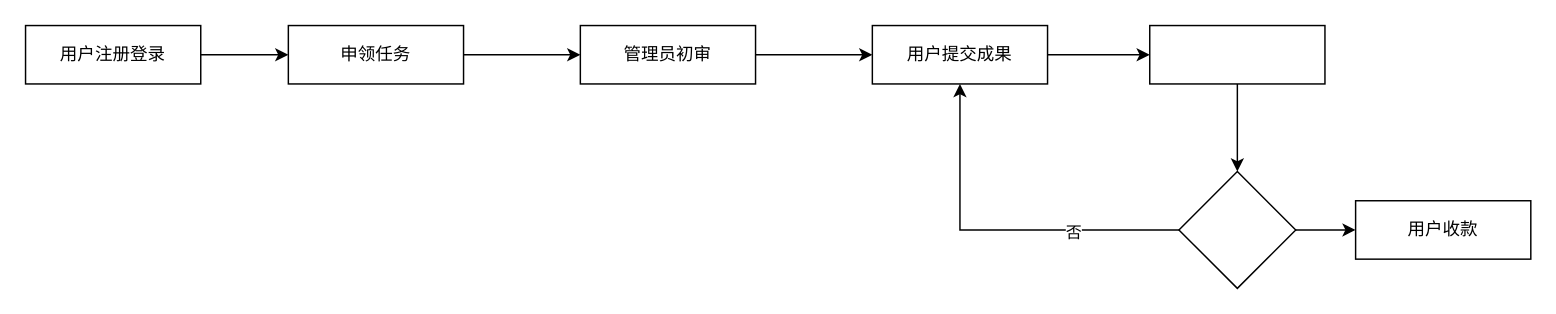
Some shapes in this 1556 by 314 pixel diagram are drawn without their labels. The centre of each missing label's shape, as x and y in pixels:
"是否审核通过" goes at [1236,229].
"管理员最终审核" goes at [1236,54].
